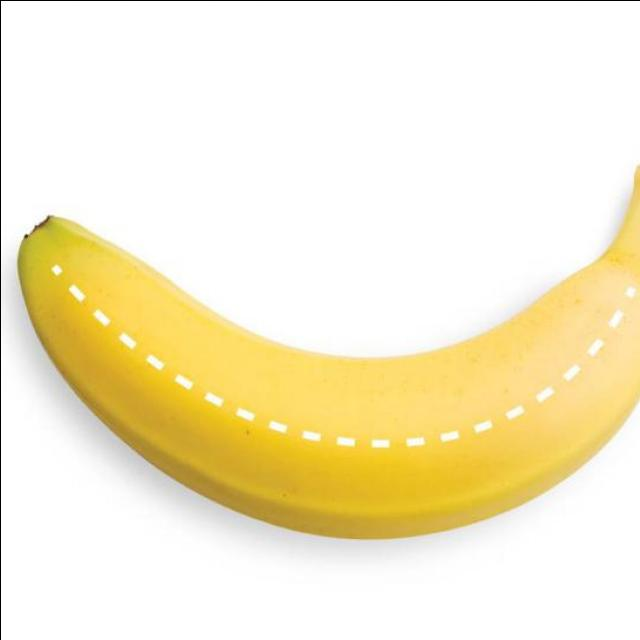banana: (3, 189, 640, 546)
